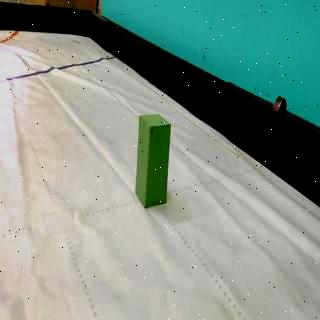greenbox: (134, 113, 170, 212)
